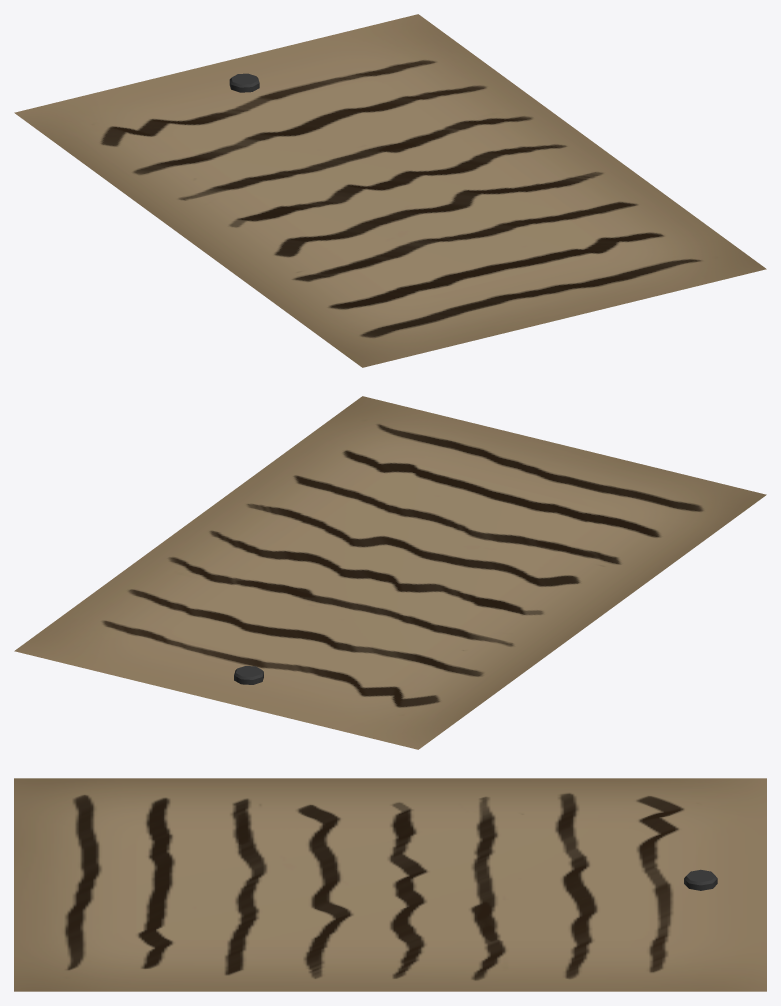
The model's file is SM_Page_01.fbx.
3 views of the same model, one above another, from view 1: azimuth 30°, elevation 25°; view 2: azimuth 150°, elevation 25°; view 3: azimuth 270°, elevation 25° (orthographic). The views are drawn at different scales.
Visible parts, largest first — view 1: pCylinder4; view 2: pCylinder4; view 3: pCylinder4.
Boxes of the visible parts, x1=… form: pCylinder4: x1=14, y1=14, x2=766, y2=367; pCylinder4: x1=14, y1=396, x2=766, y2=749; pCylinder4: x1=14, y1=778, x2=766, y2=991.
Size of the model in its own units: 40.1 by 0.8259 by 59.85.
2 materials, 1 textured.
